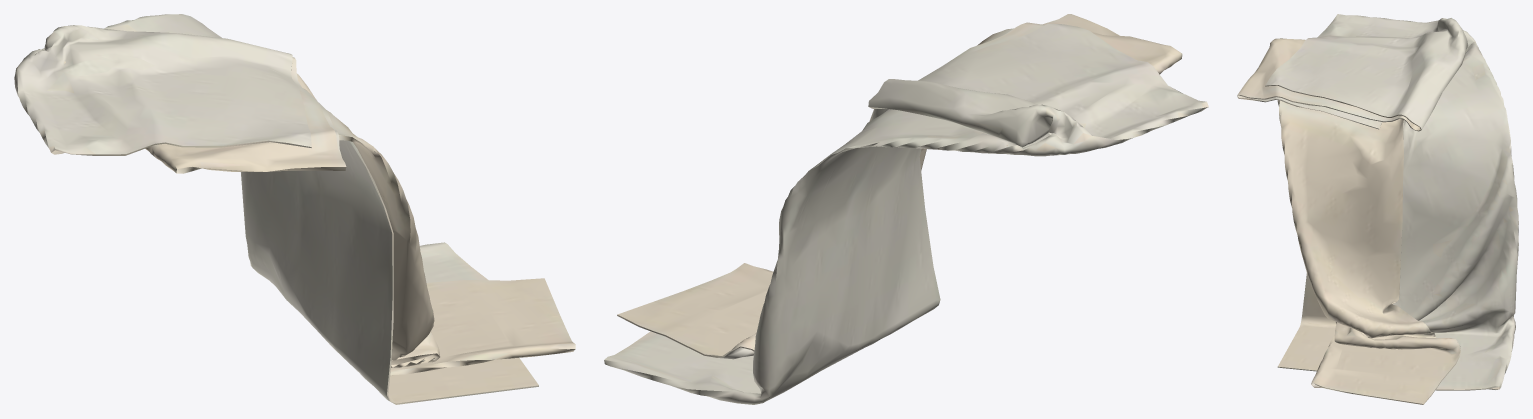
The model's file is LR-THROW-A.glb.
3 renders of one model, left to right at view 1: azimuth 30°, elevation 25°; view 2: azimuth 150°, elevation 25°; view 3: azimuth 270°, elevation 25°, orthographic. The views are drawn at different scales.
Parts seen in each view (by area): view 1: Mesh_0; view 2: Mesh_0; view 3: Mesh_0.
Boxes of the visible parts, x1,y1,x2,y2 form: Mesh_0: (14,14,575,404); Mesh_0: (604,14,1208,404); Mesh_0: (1237,14,1518,404).
Size of the model in its own units: 1.03 by 0.6139 by 0.6696.
Materials: 1 (1 with a texture image).
